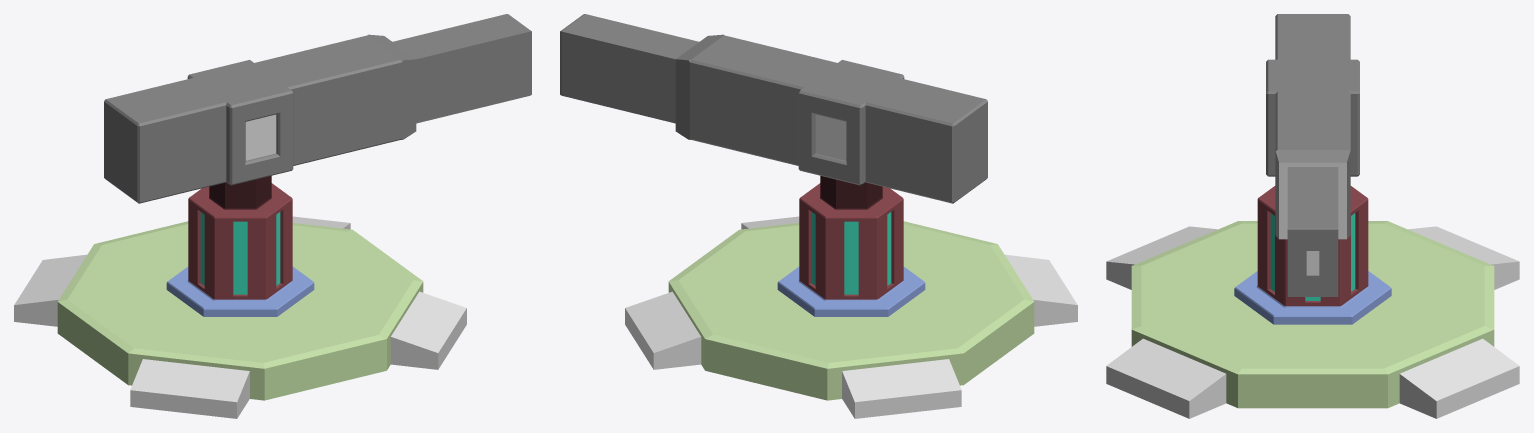
Rendered from Railgun_TD_4.fbx.
The picture shows the model from 3 angles, left to right: view 1: azimuth 30°, elevation 25°; view 2: azimuth 150°, elevation 25°; view 3: azimuth 270°, elevation 25°; orthographic projection. The views are drawn at different scales.
Parts seen in each view (by area): view 1: Cylinder.001, Cube.003; view 2: Cylinder.001, Cube.003; view 3: Cylinder.001, Cube.003.
Boxes of the visible parts, left/top/right/bottom form: Cylinder.001: left=14, top=176, right=466, bottom=418; Cube.003: left=104, top=14, right=531, bottom=203; Cylinder.001: left=625, top=176, right=1077, bottom=418; Cube.003: left=560, top=14, right=987, bottom=203; Cylinder.001: left=1106, top=186, right=1519, bottom=418; Cube.003: left=1266, top=14, right=1359, bottom=296.
Size of the model in its own units: 1402 by 720 by 1054.
